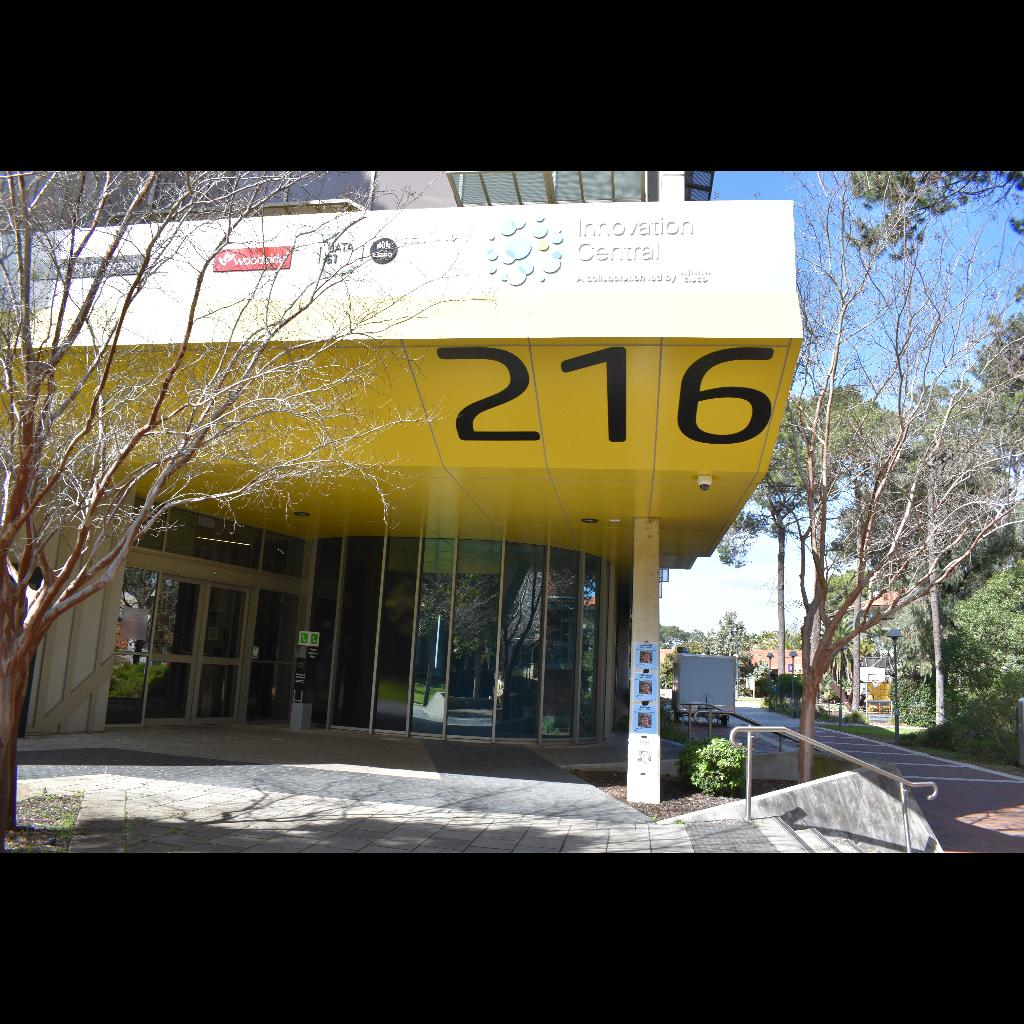BuildingCodes: (435, 342, 779, 450)
